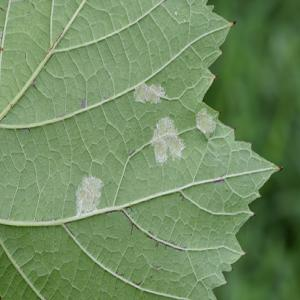Folha: (0, 0, 283, 299)
Fungo: (150, 116, 186, 164), (75, 174, 103, 217), (132, 82, 166, 104), (195, 106, 216, 138), (132, 82, 148, 104), (103, 89, 110, 100), (151, 262, 162, 269), (81, 97, 86, 109), (128, 148, 135, 156), (279, 164, 284, 175), (32, 78, 37, 88), (180, 194, 184, 202), (233, 126, 237, 133), (174, 10, 178, 16), (232, 20, 236, 26), (218, 110, 222, 115), (214, 74, 217, 79)
